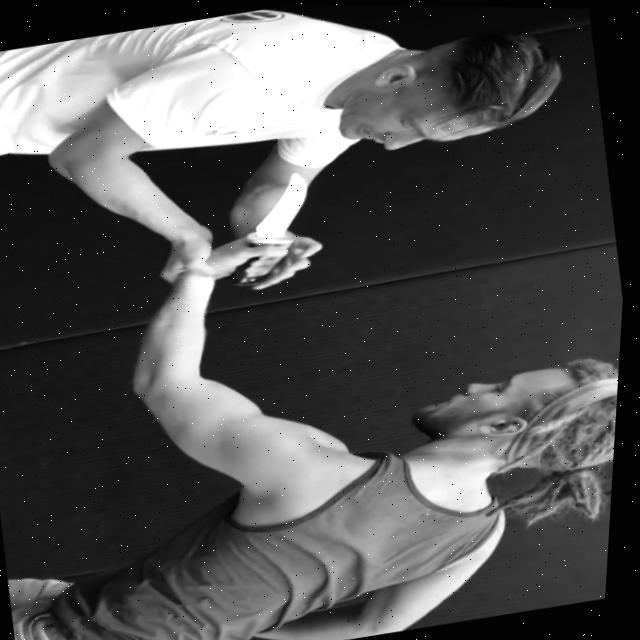knife: (241, 165, 331, 248)
